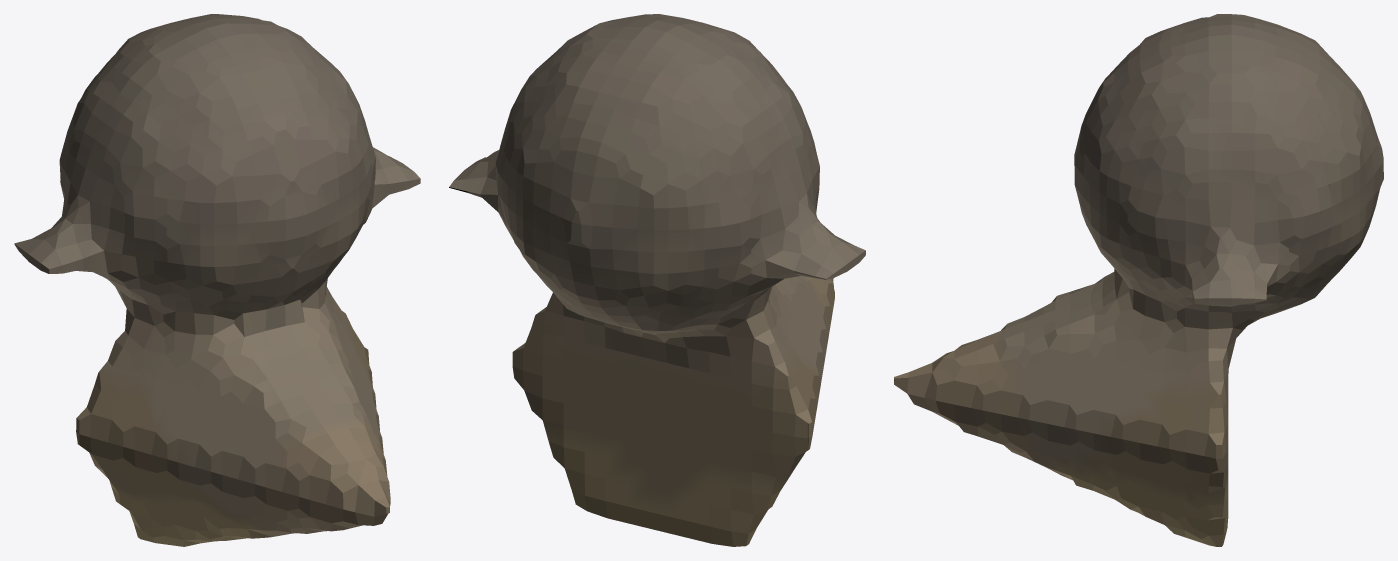
Rendered from waterGhost.glb.
3 renders of one model, left to right at view 1: azimuth 30°, elevation 25°; view 2: azimuth 150°, elevation 25°; view 3: azimuth 270°, elevation 25°, orthographic. The views are drawn at different scales.
Visible parts, largest first — view 1: geometry_0; view 2: geometry_0; view 3: geometry_0.
Boxes of the visible parts, x1,y1,x2,y2 form: geometry_0: (14, 14, 420, 546); geometry_0: (449, 14, 865, 546); geometry_0: (894, 14, 1383, 546).
Bounding box in the file's own units: 0.7641 × 0.9702 × 0.8844.
1 material, 1 textured.
